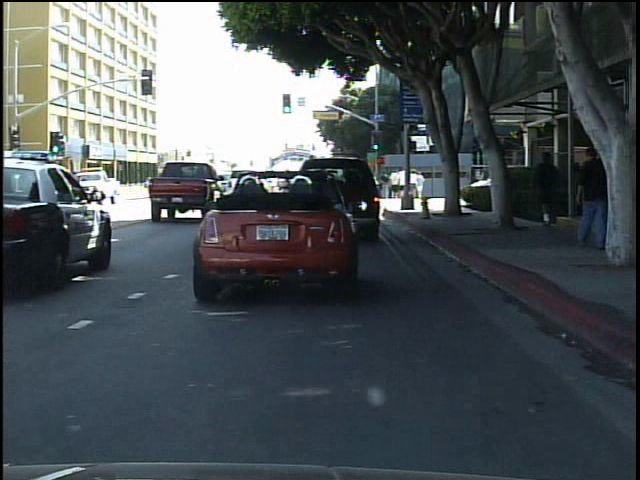person: (569, 139, 610, 258), (528, 146, 569, 236), (142, 174, 161, 201)
